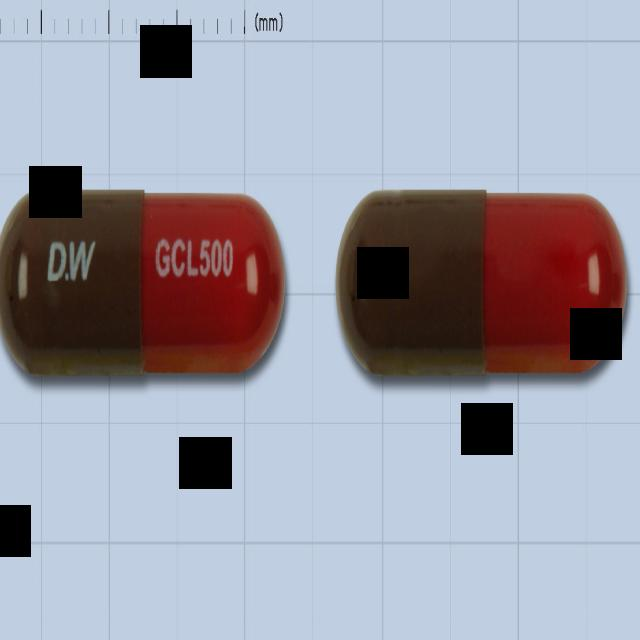Gomcillin Cap: (0, 185, 286, 382)
